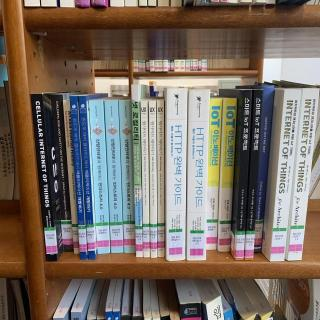book-spine: (286, 87, 320, 262), (268, 88, 301, 263), (31, 93, 57, 262), (185, 89, 210, 260), (250, 85, 275, 254), (165, 88, 188, 261), (51, 94, 73, 252), (244, 89, 263, 261), (89, 101, 110, 254), (217, 98, 237, 253), (235, 90, 252, 260), (70, 96, 87, 260), (78, 96, 95, 259), (105, 100, 123, 253), (63, 101, 79, 254), (119, 101, 135, 253), (206, 98, 222, 250), (131, 85, 143, 257), (140, 101, 150, 257), (149, 101, 157, 258), (157, 100, 165, 257)
